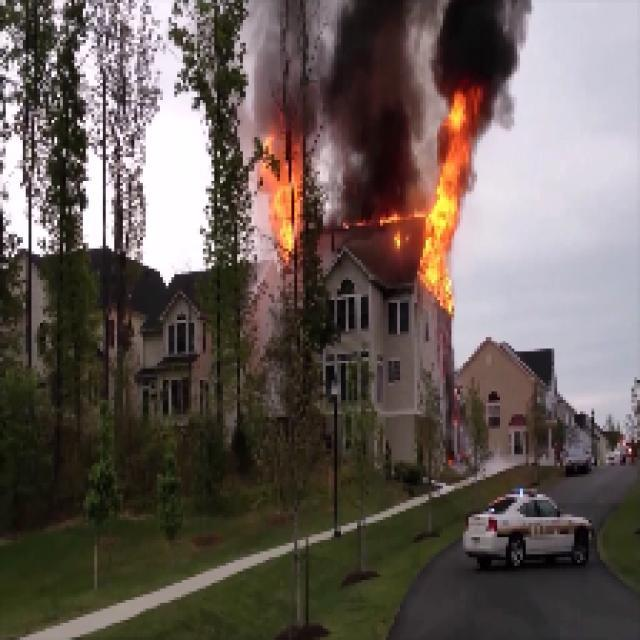Fire: (429, 104, 472, 292), (260, 142, 312, 247)
Smoke: (327, 8, 414, 218), (438, 4, 516, 96)
